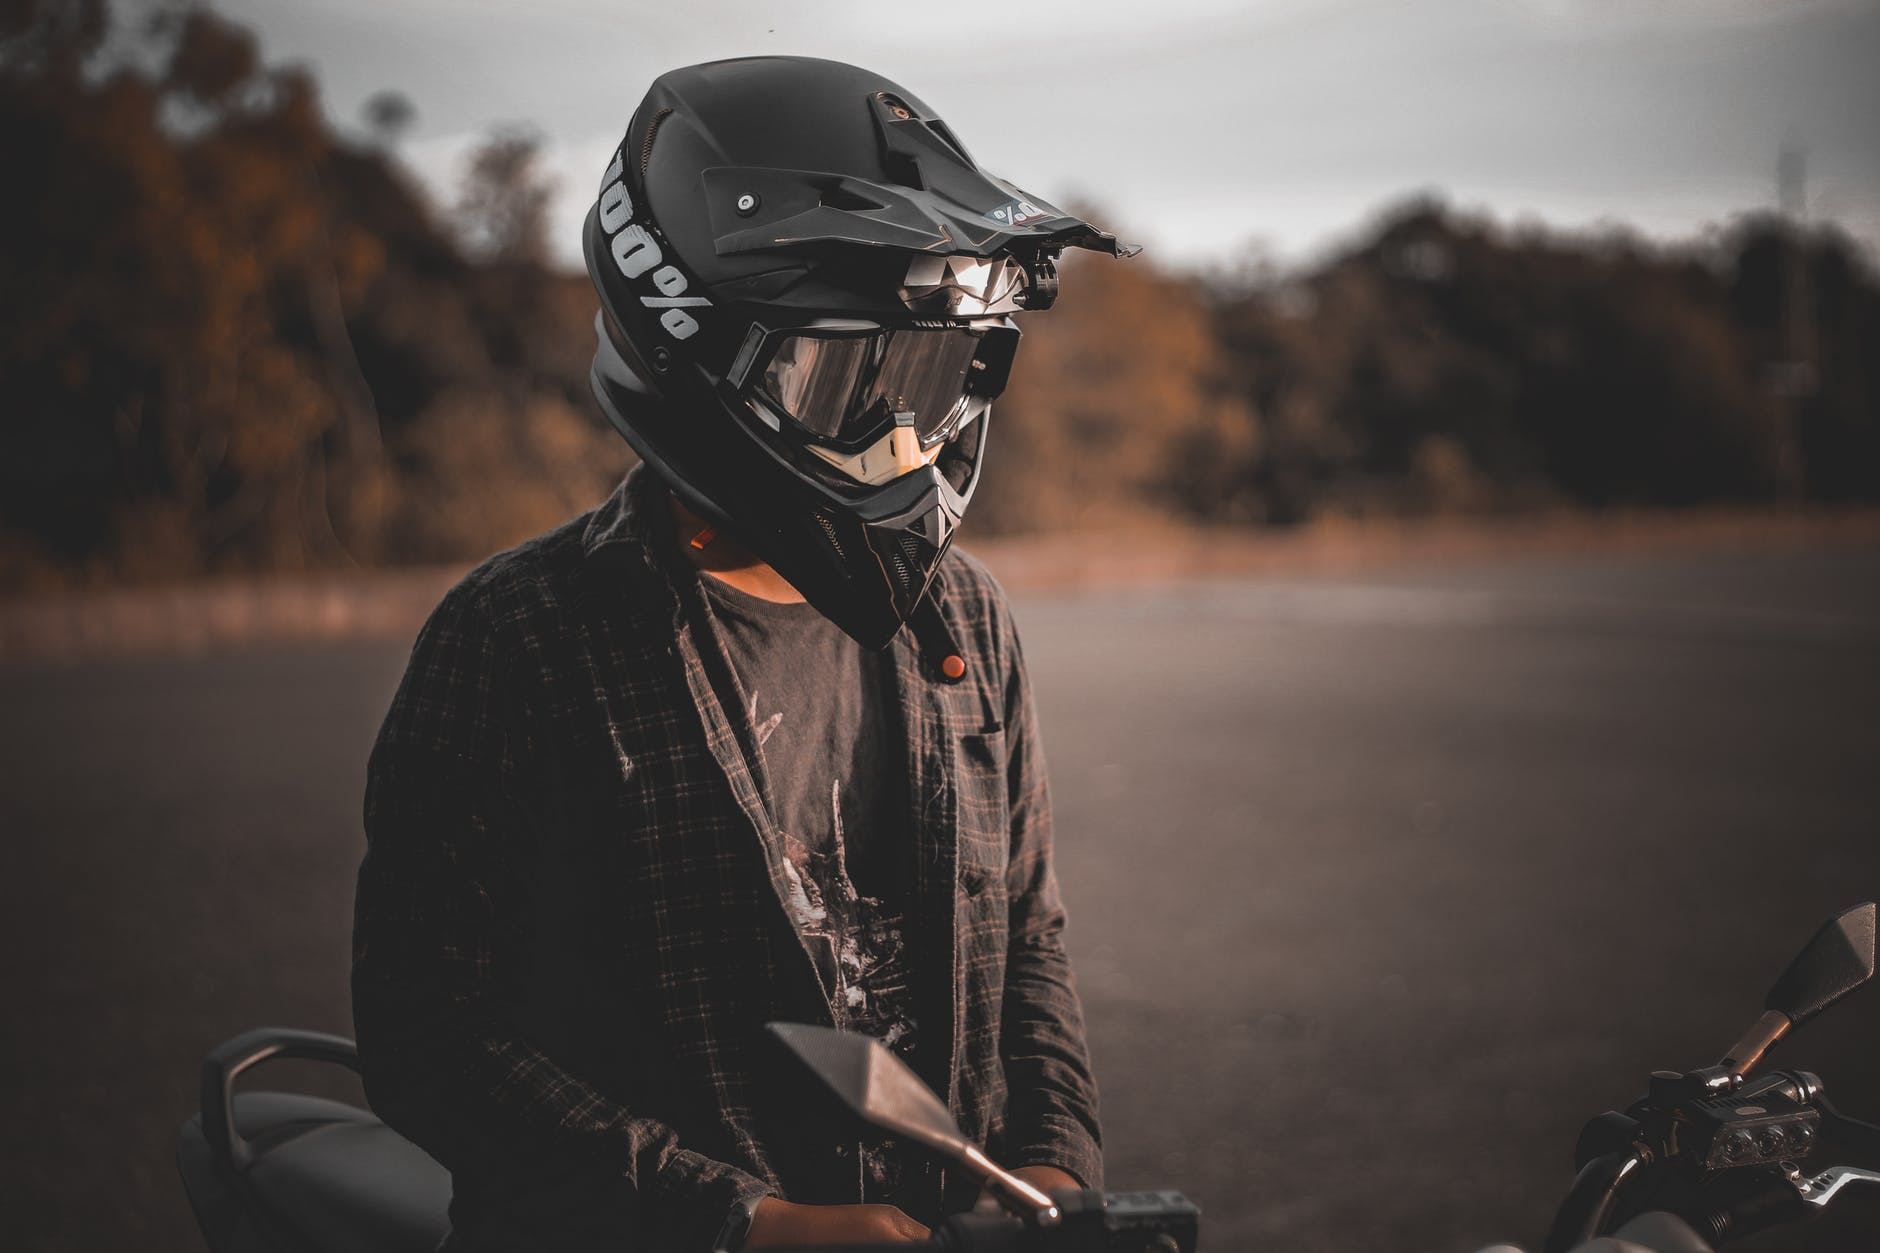helmet: (615, 55, 1025, 550)
